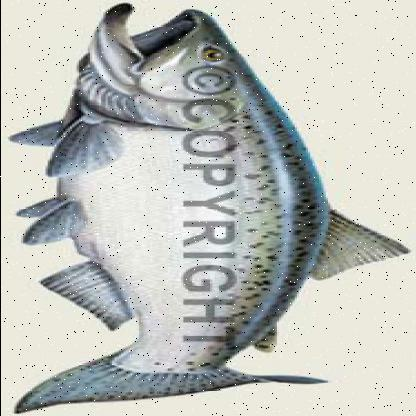fish: (12, 1, 409, 412)
